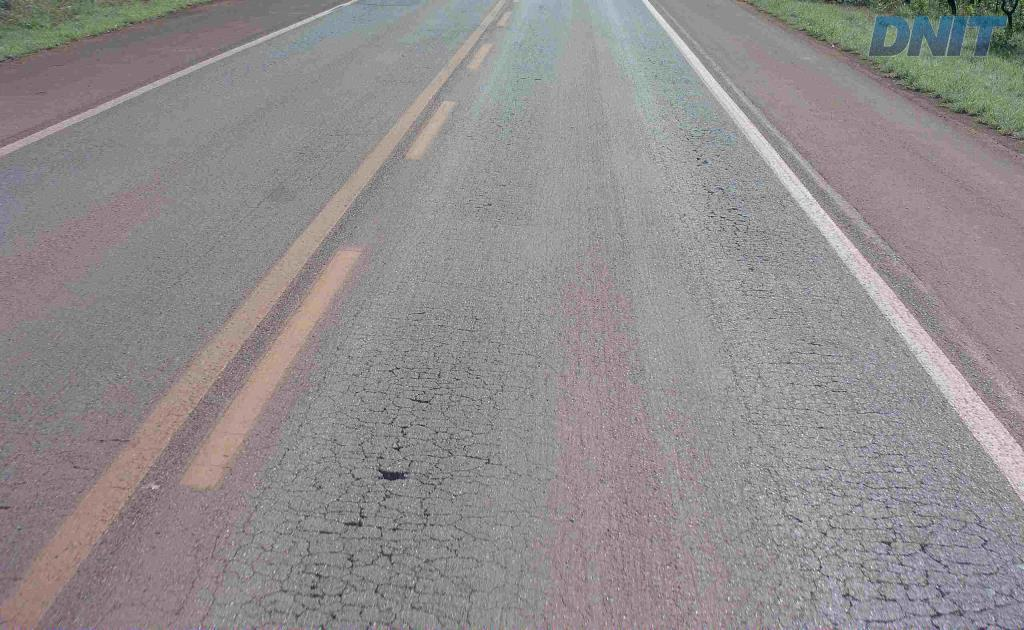crack: (371, 456, 444, 487)
